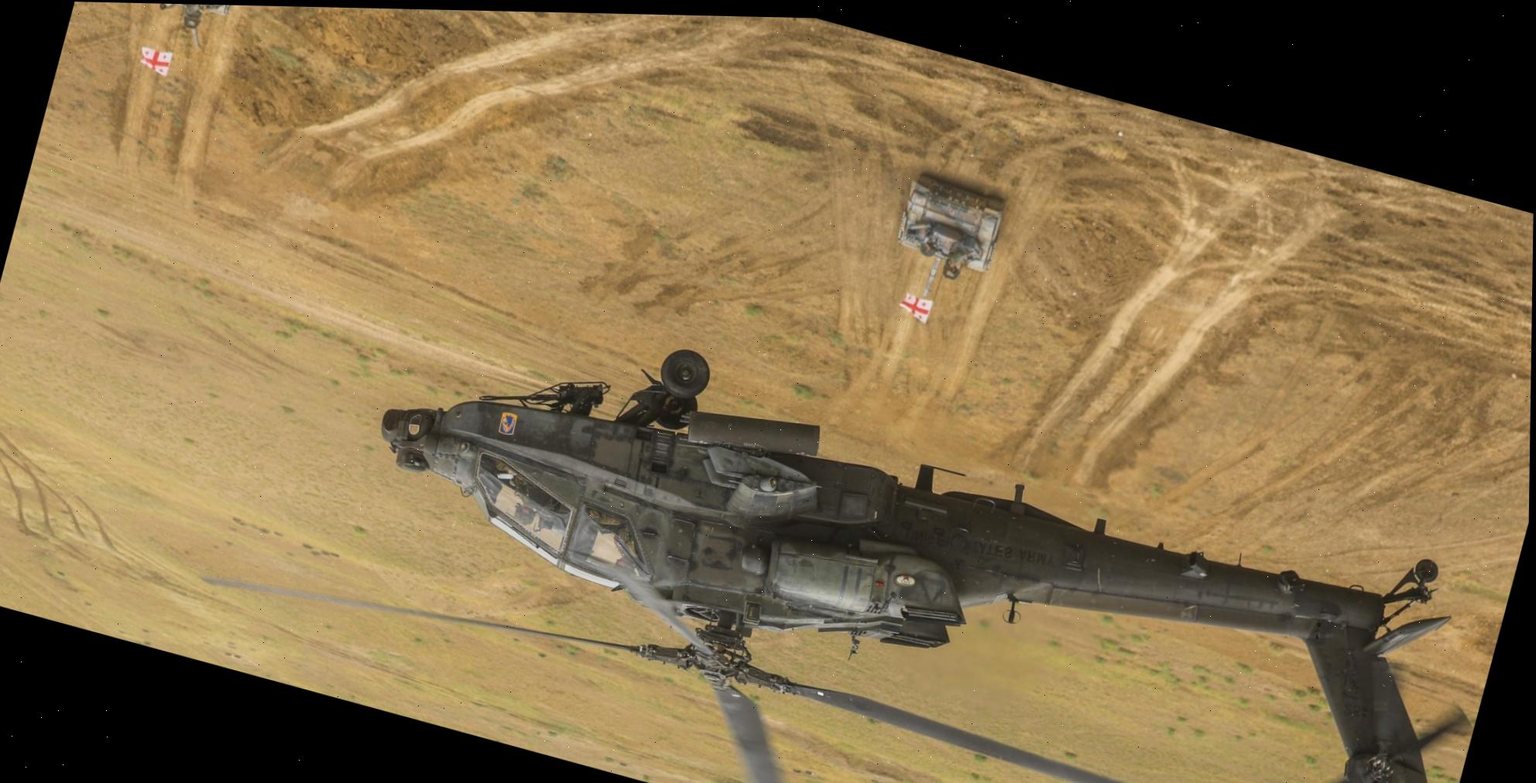tank: (881, 165, 1014, 313), (123, 3, 241, 57)
